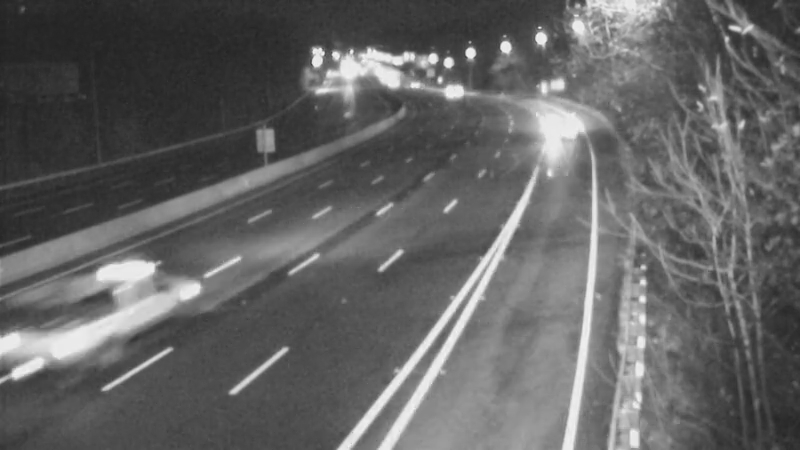vehicle: (34, 269, 144, 379), (385, 62, 435, 112), (425, 68, 475, 118), (529, 97, 579, 147)
